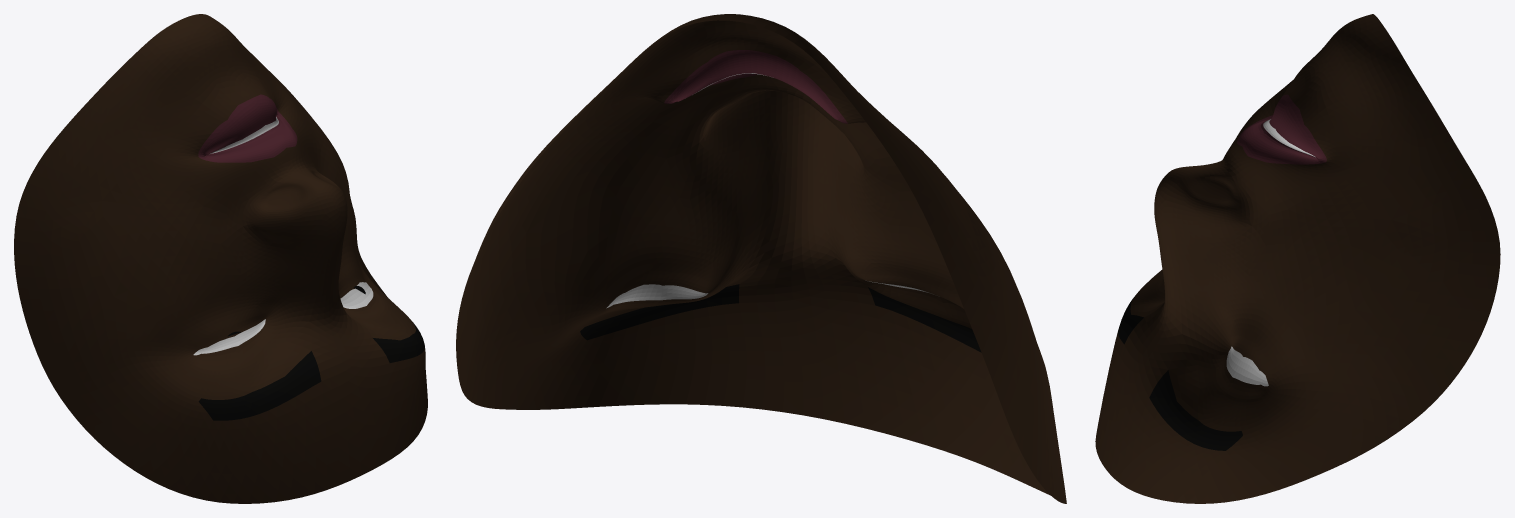
Rendered from VID-20250515-WA0008_f_01328.obj.
3 renders of one model, left to right at view 1: azimuth 30°, elevation 25°; view 2: azimuth 150°, elevation 25°; view 3: azimuth 270°, elevation 25°, orthographic. The views are drawn at different scales.
Parts seen in each view (by area): view 1: face_mesh_subdivided; view 2: face_mesh_subdivided; view 3: face_mesh_subdivided.
Part boxes in pixels (<box>): face_mesh_subdivided: <box>14,14,427,503</box>; face_mesh_subdivided: <box>456,14,1066,503</box>; face_mesh_subdivided: <box>1095,14,1500,503</box>.
Size of the model in its own units: 0.4479 by 0.4648 by 0.4084.
